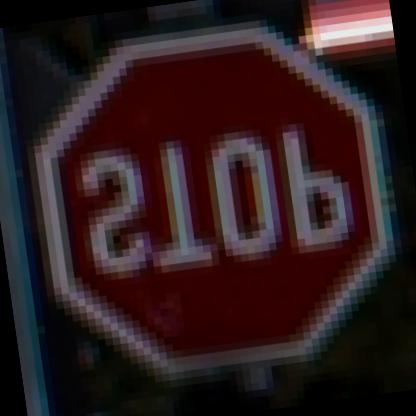stop: (20, 6, 413, 404)
